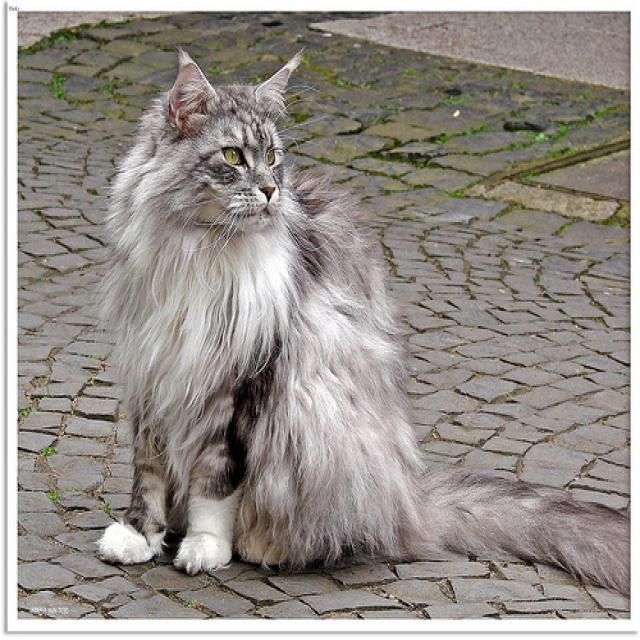Maine_Coon: (135, 36, 319, 251)
